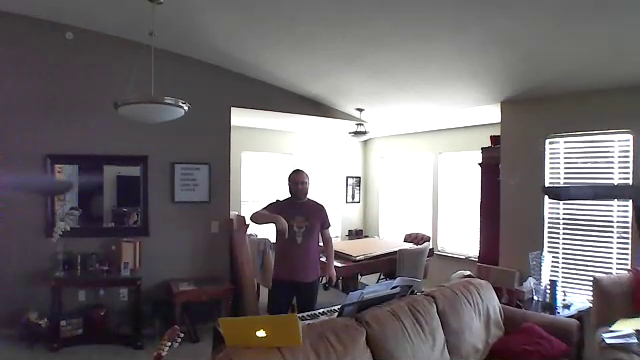down: (269, 207, 293, 240)
